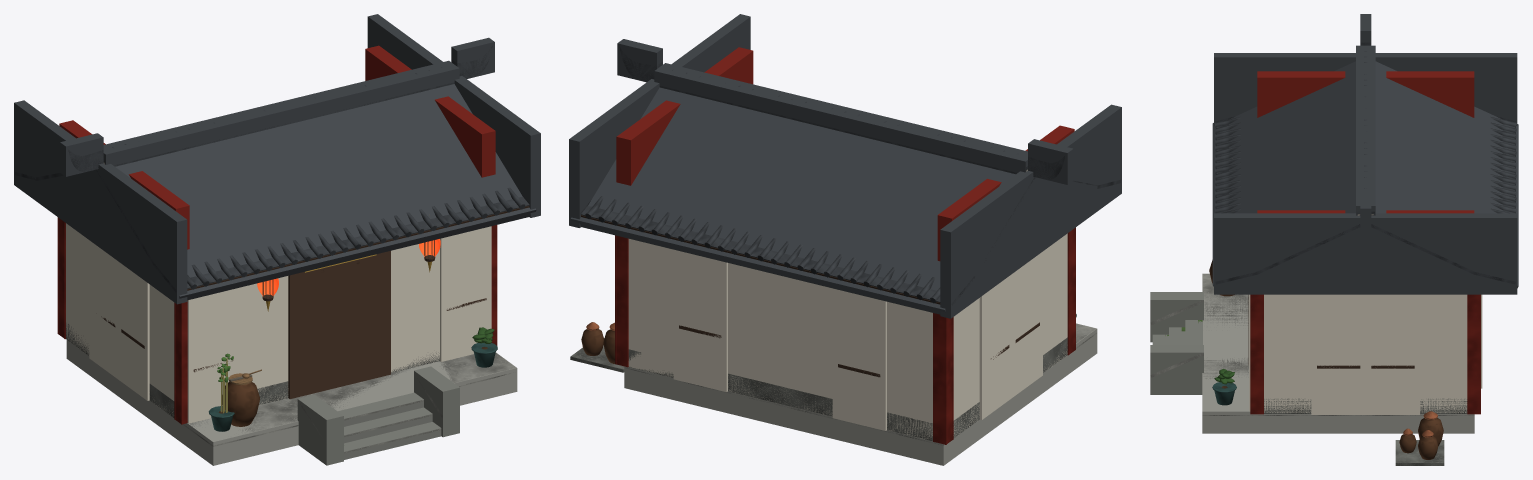
File: kit_artisan.gltf
3 renders of one model, left to right at view 1: azimuth 30°, elevation 25°; view 2: azimuth 150°, elevation 25°; view 3: azimuth 270°, elevation 25°, orthographic. The views are drawn at different scales.
Parts seen in each view (by area): view 1: Far, Near, Detail; view 2: Far, Near, Detail; view 3: Far, Near, Detail.
Part boxes in pixels (x1,y1,x2,y2): Far: (14, 14, 540, 465); Near: (15, 46, 529, 453); Detail: (208, 215, 497, 431); Far: (569, 14, 1121, 465); Near: (580, 47, 1120, 445); Detail: (570, 314, 1076, 372); Far: (1150, 14, 1518, 433); Near: (1150, 42, 1516, 415); Detail: (1209, 260, 1444, 465).
Bounding box in the file's own units: 8.59 × 5.18 × 6.79.
24 materials, 23 textured.
